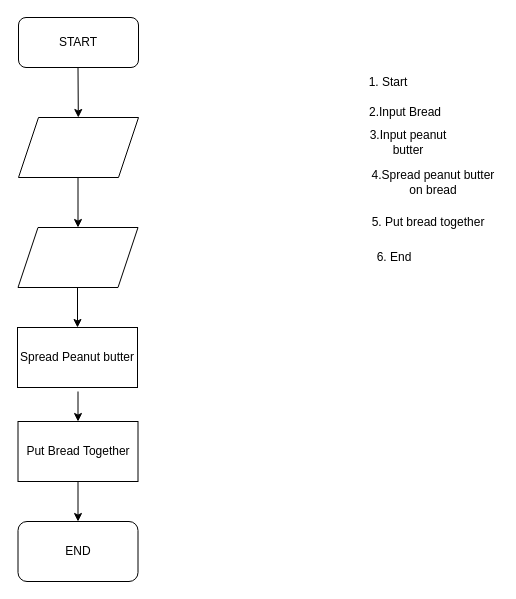
Some shapes in this 516 by 599 pixel diagram are drawn without their labels. The box of each missing label's shape, as (x1, y1, x2, y2) in pixels:
Get Bread: (18, 116, 138, 178)
Get Peanut butter: (17, 226, 138, 288)
